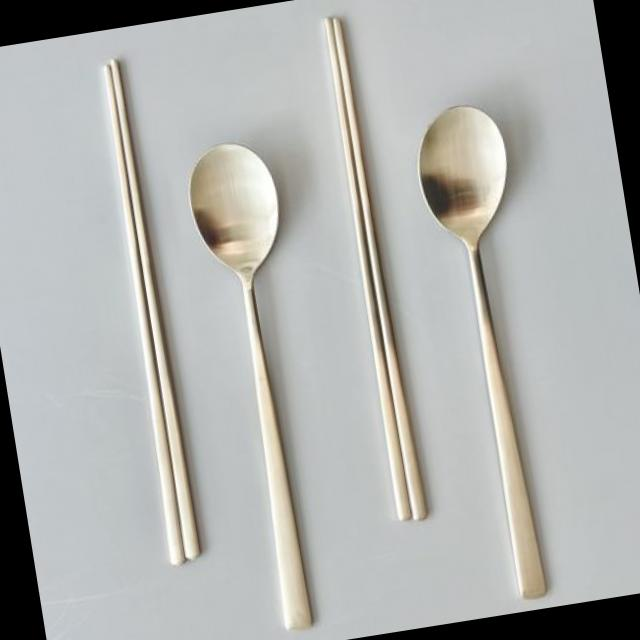spoon: (394, 91, 561, 605), (174, 133, 325, 634)
